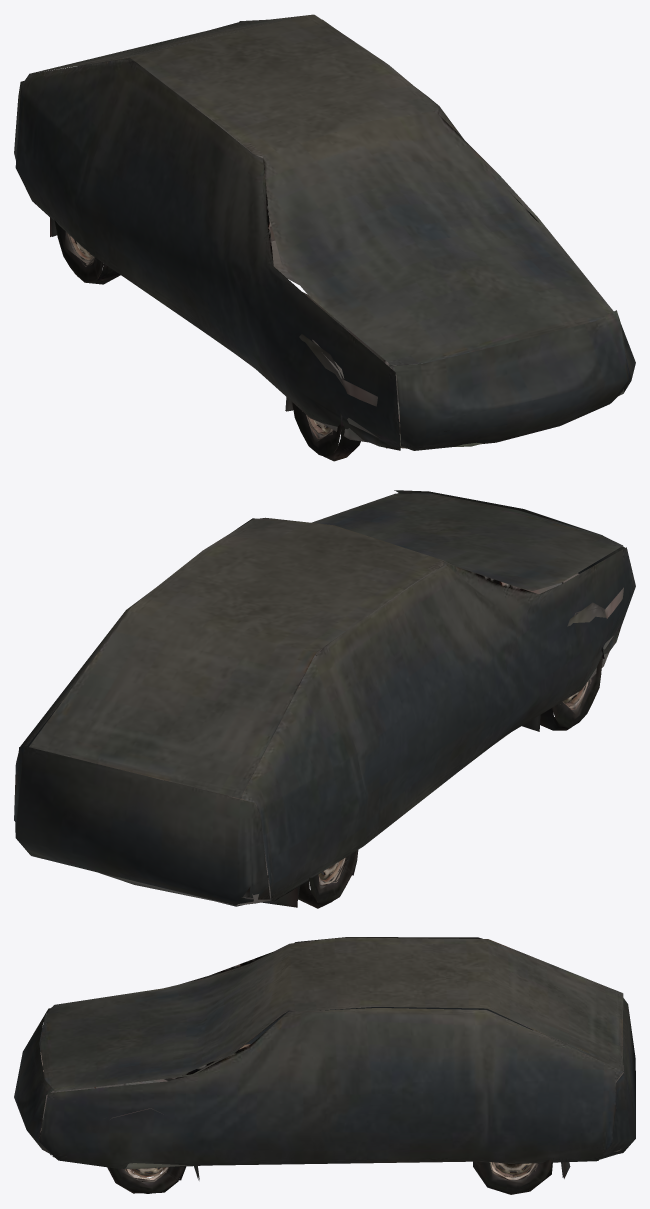
The model's file is covered_car.glb.
The picture shows the model from 3 angles, top to bottom: view 1: azimuth 30°, elevation 25°; view 2: azimuth 150°, elevation 25°; view 3: azimuth 270°, elevation 25°; orthographic projection. The views are drawn at different scales.
Visible parts, largest first — view 1: covered_car, covered_car_wheel_02, covered_car_wheel_03; view 2: covered_car, covered_car_wheel_03, covered_car_wheel_02; view 3: covered_car, covered_car_wheel_04, covered_car_wheel_01.
Boxes of the visible parts, <box> form: covered_car: <box>14,14,635,450</box>; covered_car_wheel_02: <box>291,401,360,461</box>; covered_car_wheel_03: <box>54,219,120,284</box>; covered_car: <box>14,490,635,907</box>; covered_car_wheel_03: <box>298,850,358,908</box>; covered_car_wheel_02: <box>540,647,604,730</box>; covered_car: <box>14,937,635,1180</box>; covered_car_wheel_04: <box>473,1158,553,1194</box>; covered_car_wheel_01: <box>107,1166,186,1193</box>.
Bounding box in the file's own units: 1.8 × 1.39 × 4.38.
2 materials, 2 textured.
